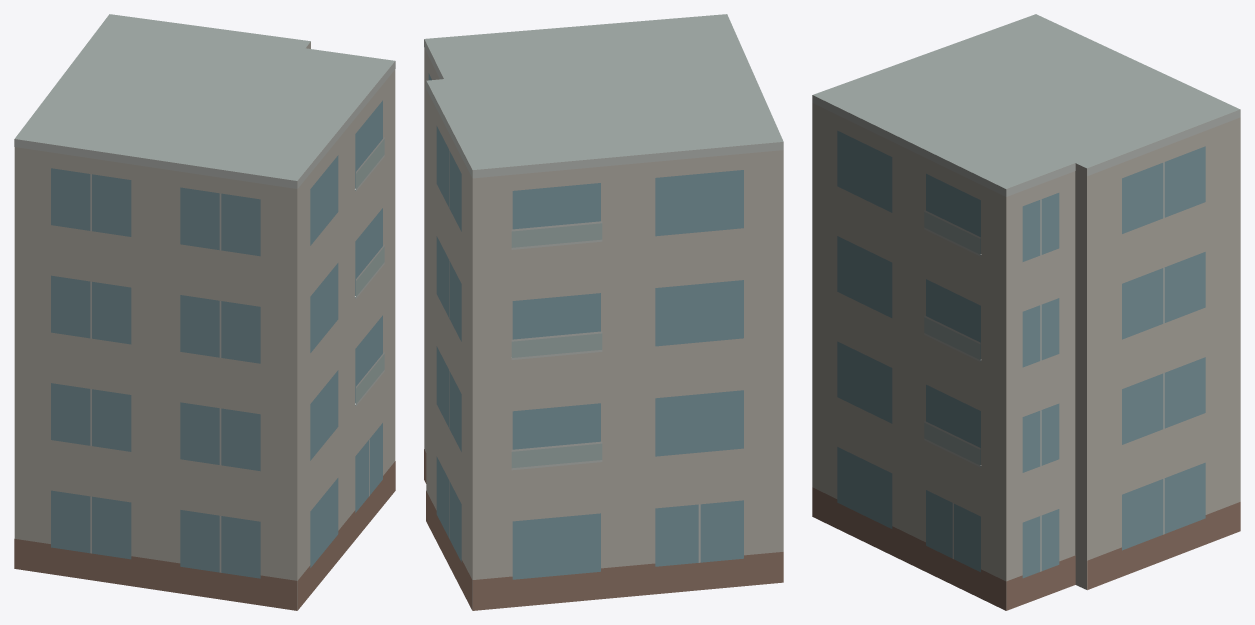
File: survey-upis-32628172.glb
3 views of the same model, side by side, from view 1: azimuth 30°, elevation 25°; view 2: azimuth 150°, elevation 25°; view 3: azimuth 270°, elevation 25° (orthographic). The views are drawn at different scales.
Parts seen in each view (by area): view 1: survey-upis-32628172.tmp; view 2: survey-upis-32628172.tmp; view 3: survey-upis-32628172.tmp.
Part boxes in pixels (box(x1,y1,x2,y2)): survey-upis-32628172.tmp: box(14, 14, 395, 610); survey-upis-32628172.tmp: box(424, 14, 783, 610); survey-upis-32628172.tmp: box(812, 14, 1240, 610).
Bounding box in the file's own units: 11.59 × 13 × 11.97.
